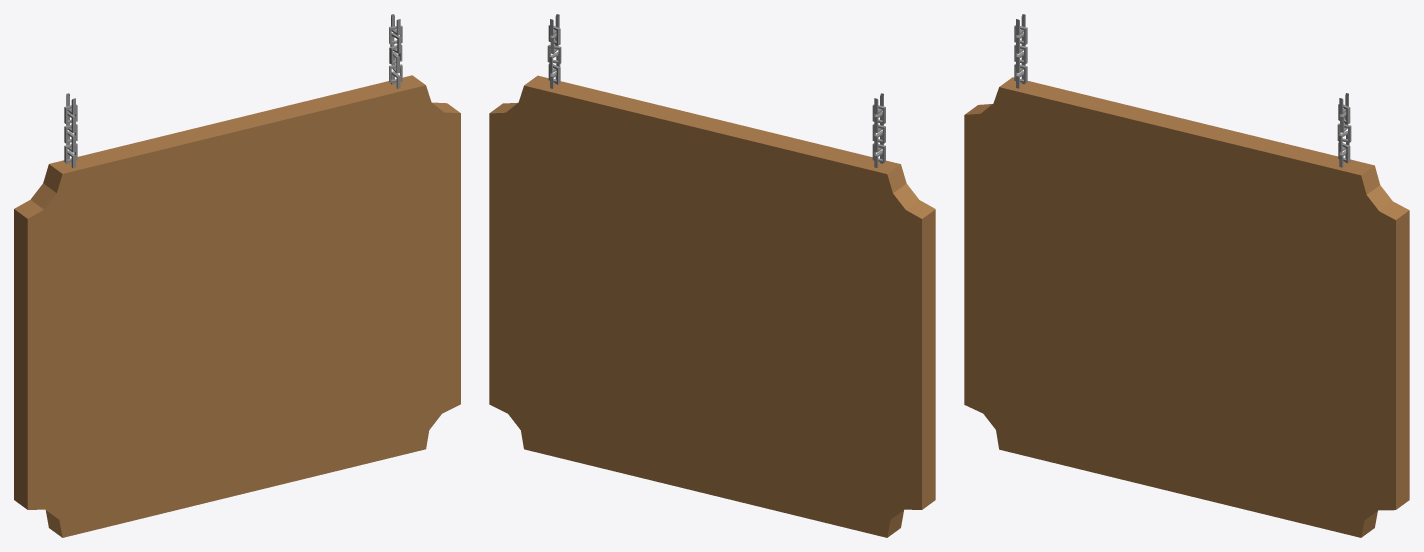
File: Sign13.fbx
3 renders of one model, left to right at view 1: azimuth 30°, elevation 25°; view 2: azimuth 150°, elevation 25°; view 3: azimuth 330°, elevation 25°, orthographic.
Visible parts, largest first — view 1: Sign13; view 2: Sign13; view 3: Sign13.
Part boxes in pixels (x1,y1,x2,y2): Sign13: (14, 14, 460, 537); Sign13: (489, 14, 935, 537); Sign13: (964, 14, 1409, 537).
Bounding box in the file's own units: 87.78 × 83.92 × 4.8.
